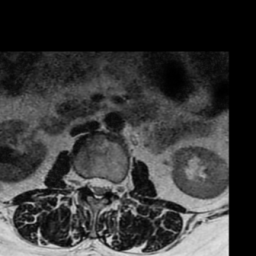CCS_normal: (95, 168, 103, 206)
LFS_normal: (111, 172, 119, 203)
LLS_normal: (103, 171, 111, 200)
RFS_normal: (78, 166, 87, 194)
RLS_normal: (87, 168, 95, 198)
